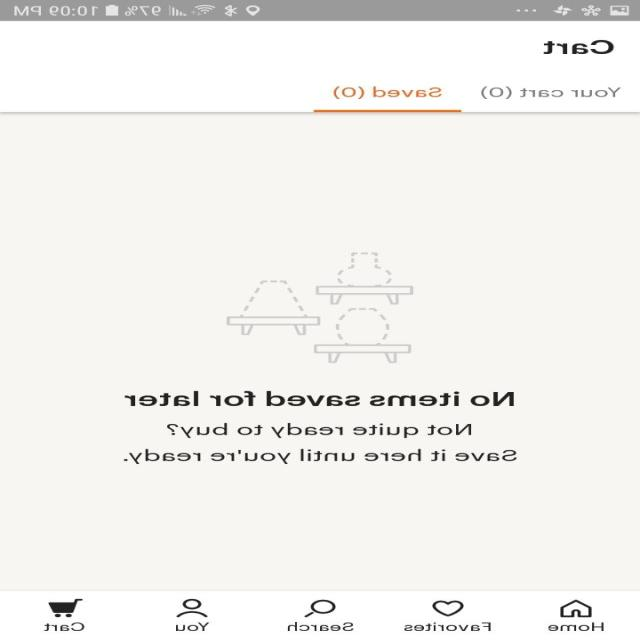Icon: (48, 598, 84, 617), (177, 598, 209, 617), (560, 599, 593, 617), (305, 599, 337, 617), (432, 599, 465, 616)
Image: (225, 252, 414, 363)
Text: (125, 423, 518, 463), (124, 390, 514, 406), (480, 87, 620, 99), (333, 86, 443, 100), (543, 40, 614, 54), (404, 621, 492, 631), (288, 621, 355, 631), (548, 622, 604, 631), (46, 622, 86, 630), (176, 622, 211, 631)
